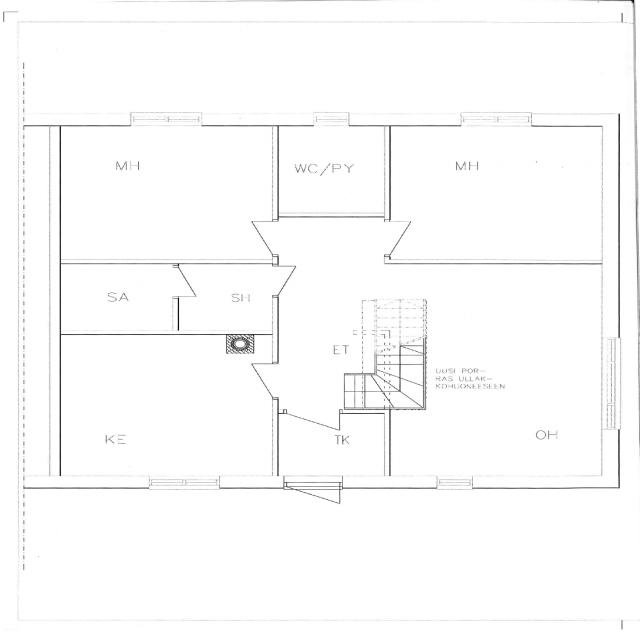door: (286, 476, 339, 526), (286, 410, 339, 450), (225, 221, 278, 255), (385, 221, 437, 255), (225, 364, 278, 397), (172, 267, 220, 297), (273, 266, 319, 295), (340, 212, 379, 245)
